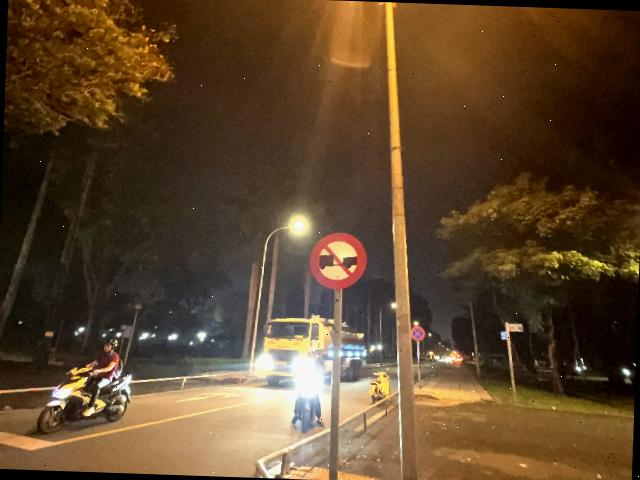cam-xe-somi-romooc: (308, 231, 368, 290)
